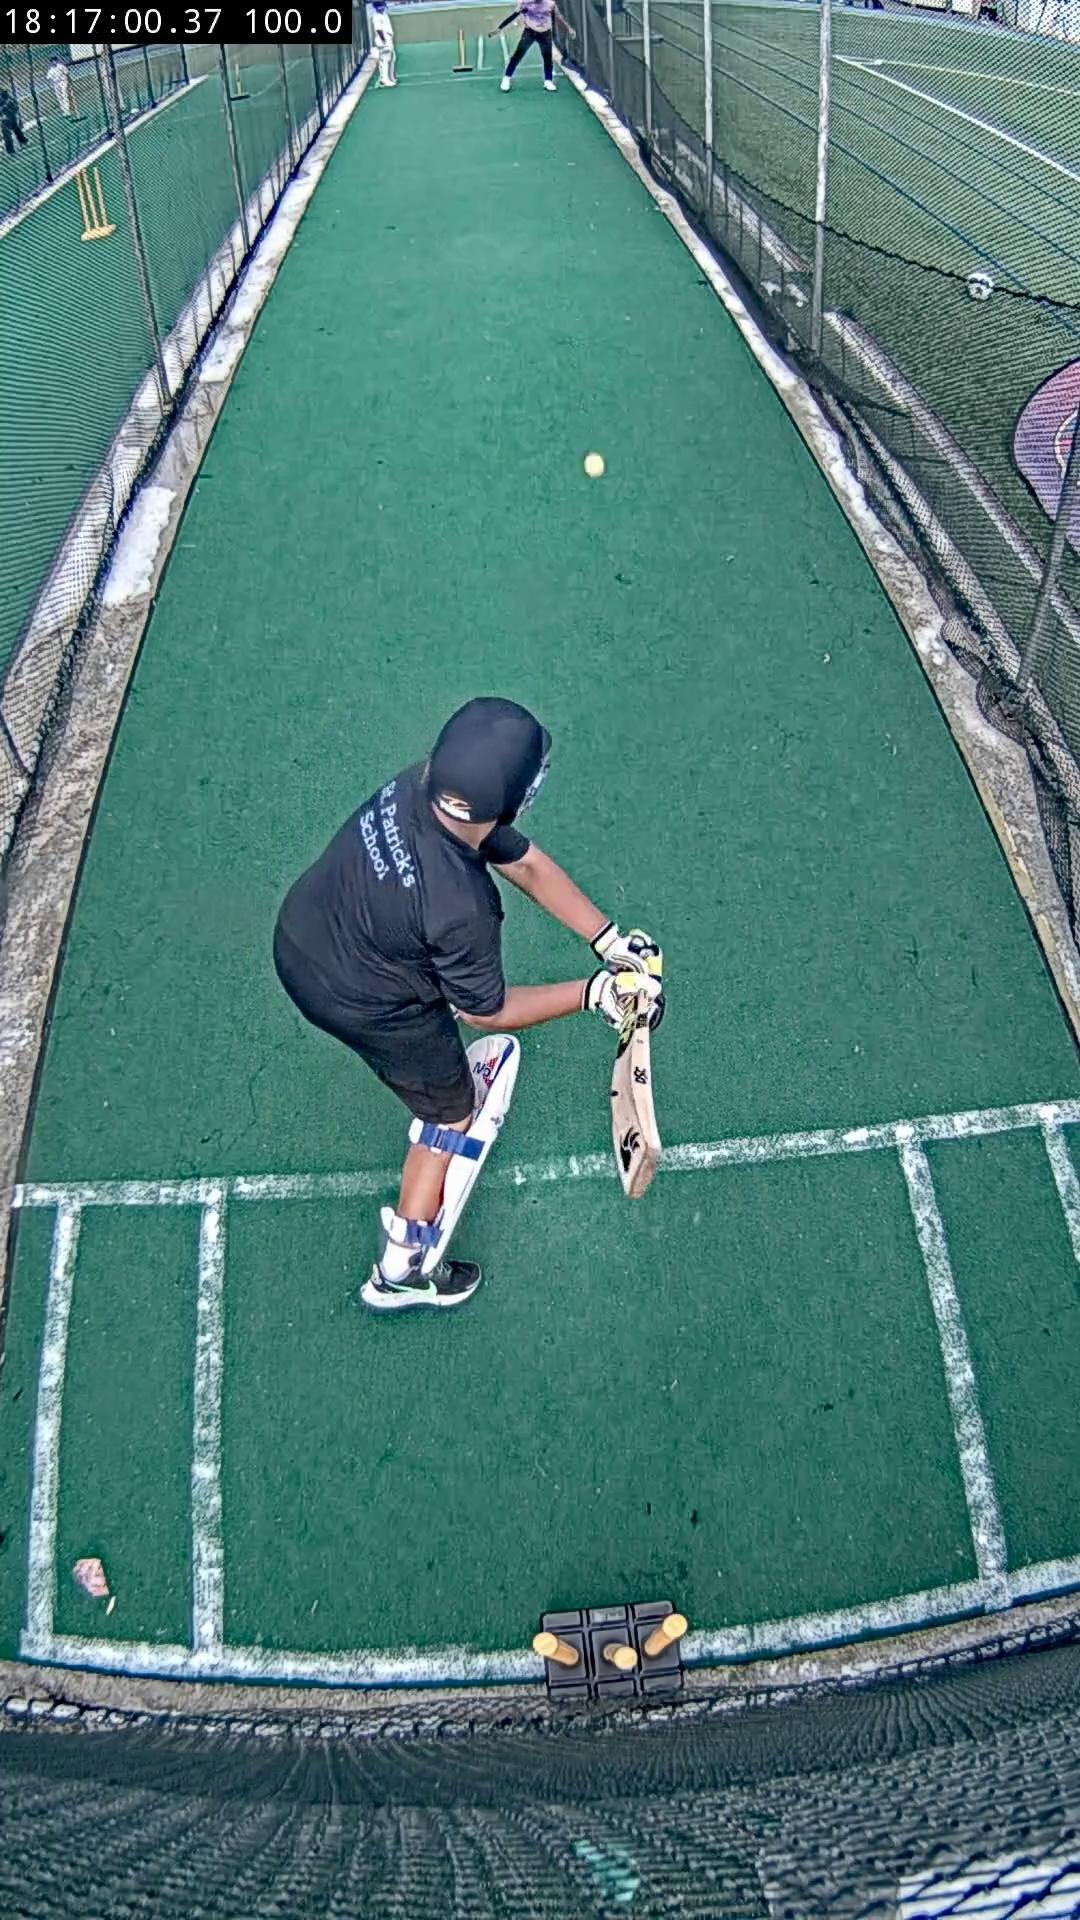ball: (585, 454, 604, 475)
bat: (612, 1009, 661, 1200)
gloves: (585, 923, 663, 1031)
helmet: (427, 698, 551, 822)
pads: (423, 1035, 521, 1273)
stumps: (533, 1601, 686, 1702)
